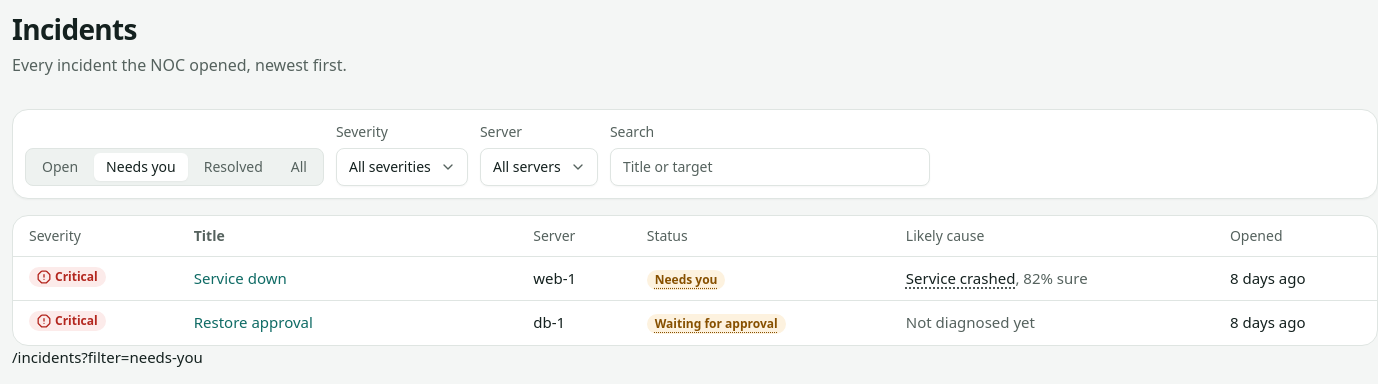
IncidentsPage › says no incidents match when the search finds nothing in the chosen filter
This screenshot has width=1378, height=384.
Check: the link "Service down" is shown, box x1=194 y1=268 x2=287 y2=288
Type "zzz" into the search field labelled "Search" at (770, 167), box x1=610 y1=148 x2=930 y2=186
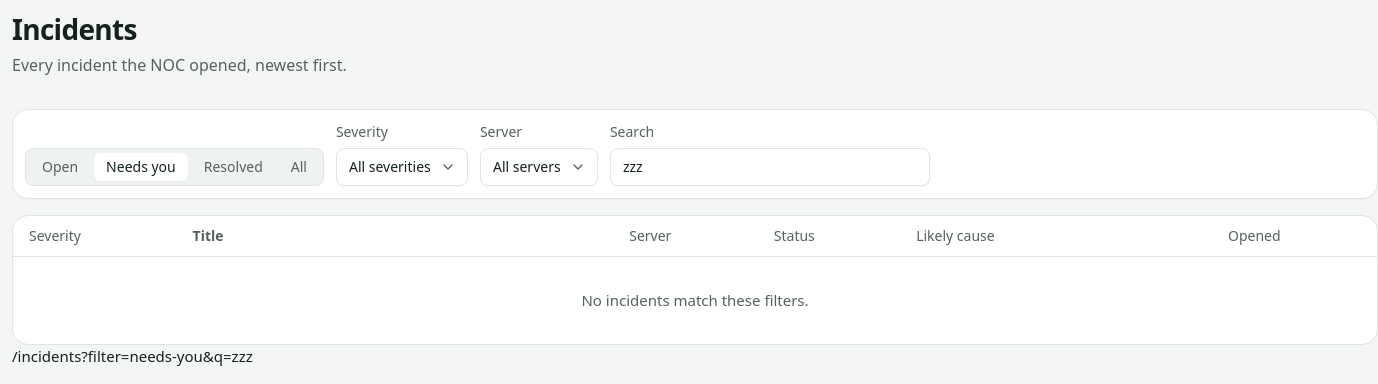
Check: the text "No incidents match these filters." is shown, box x1=13 y1=257 x2=1377 y2=344
